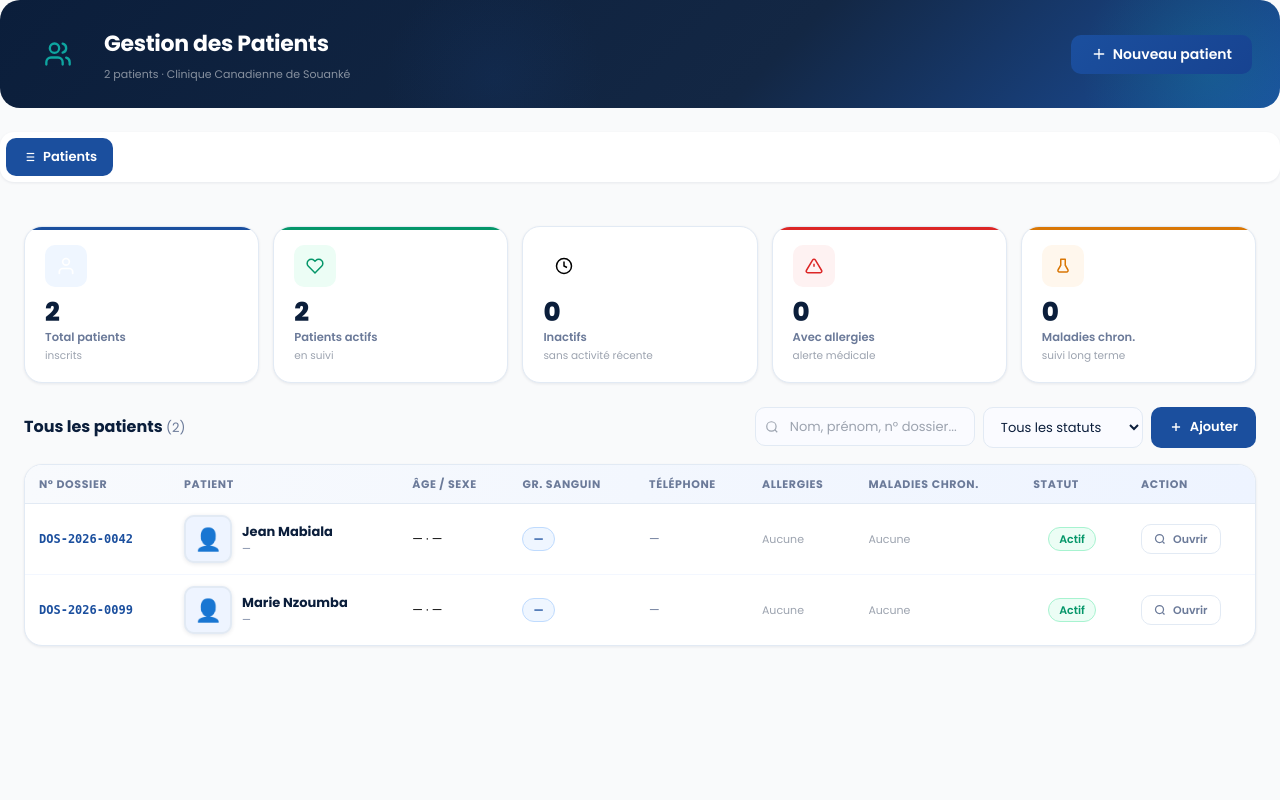
Test: PAT-CLIENTFILTER-005 — non-régression — la recherche par nom/prénom continue de fonctionner
expect the text "DOS-2026-0042" is shown: met, box [39,532,133,546]
Type "mabiala" into the field with placeholder "Nom, prénom, n° dossier...".
click(865, 426); type("mabiala")  # box [755,406,975,446]
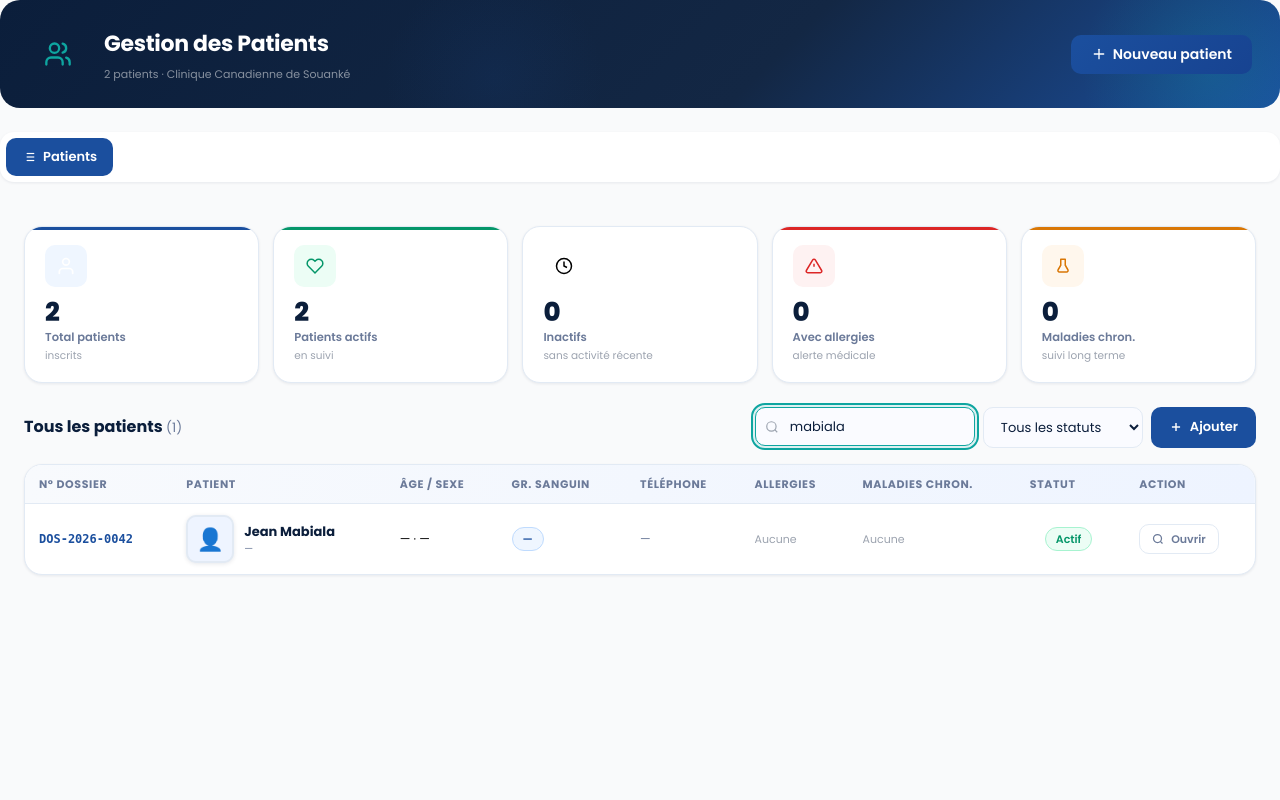
expect the text "DOS-2026-0042" is shown: met, box [39,532,133,546]
expect the text "DOS-2026-0099" is gone: met
